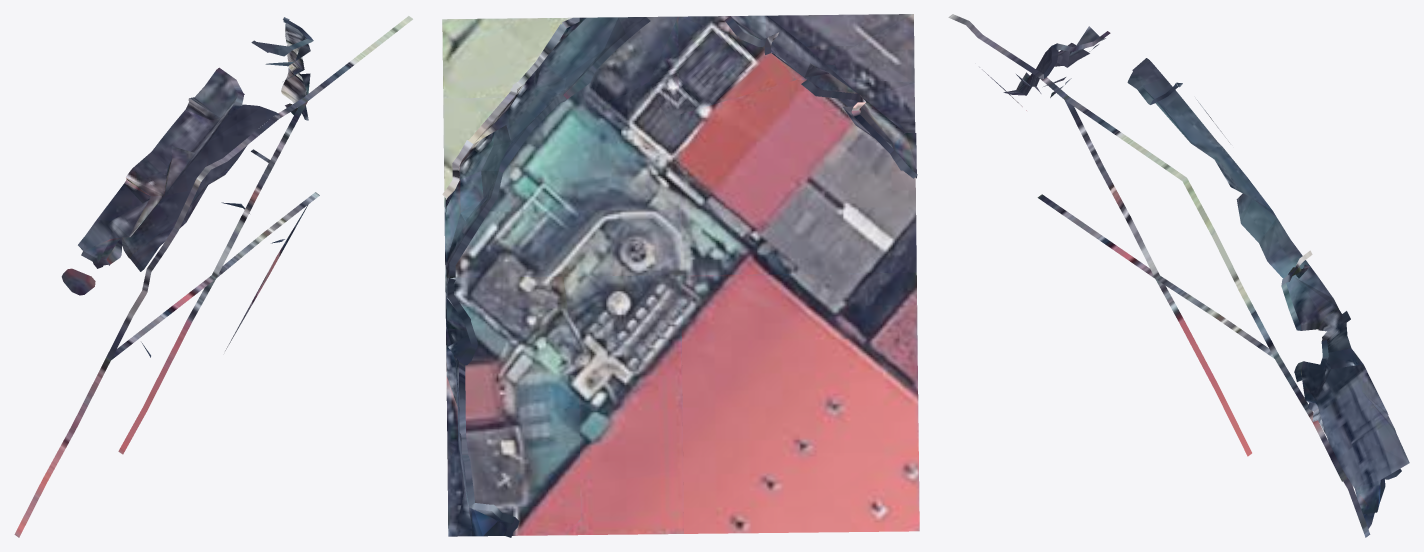
The picture shows the model from 3 angles, left to right: view 1: azimuth 30°, elevation 25°; view 2: azimuth 150°, elevation 25°; view 3: azimuth 270°, elevation 25°; orthographic projection. The views are drawn at different scales.
Size of the model in its own units: 38.34 by 37.22 by 35.48.
1 material, 1 textured.
